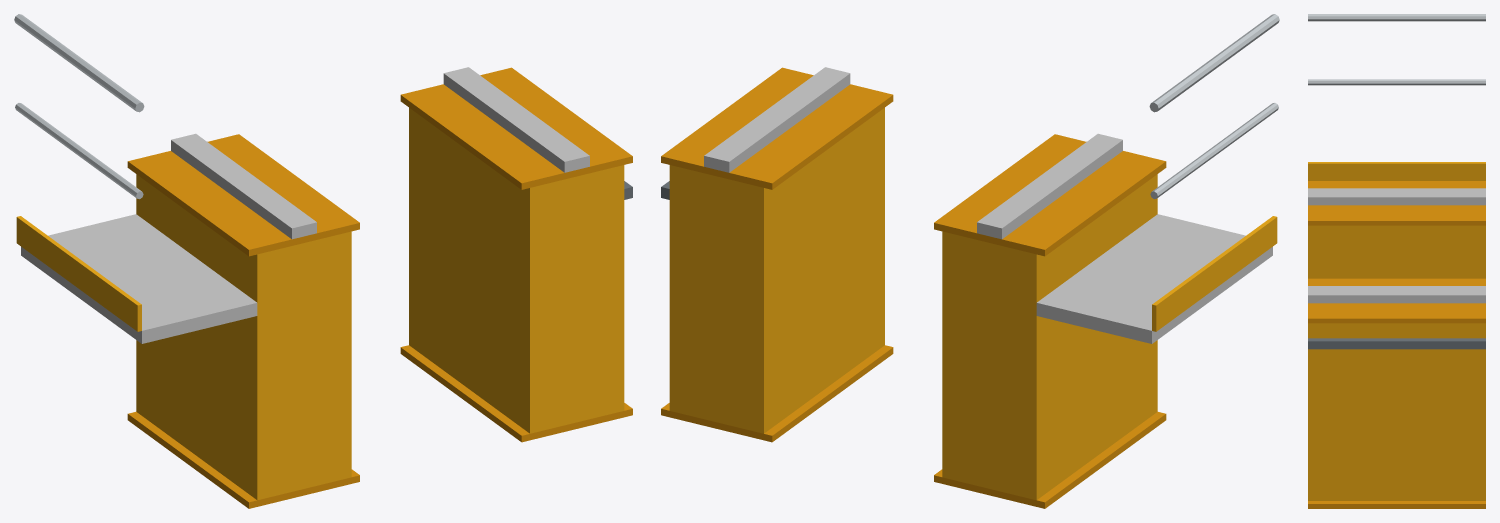
Rendered from body.obj.
3 views of the same model, side by side, from view 1: azimuth 30°, elevation 25°; view 2: azimuth 150°, elevation 25°; view 3: azimuth 270°, elevation 25° (orthographic). The views are drawn at different scales.
Bounding box in the file's own units: 2.37 × 1.97 × 1.
